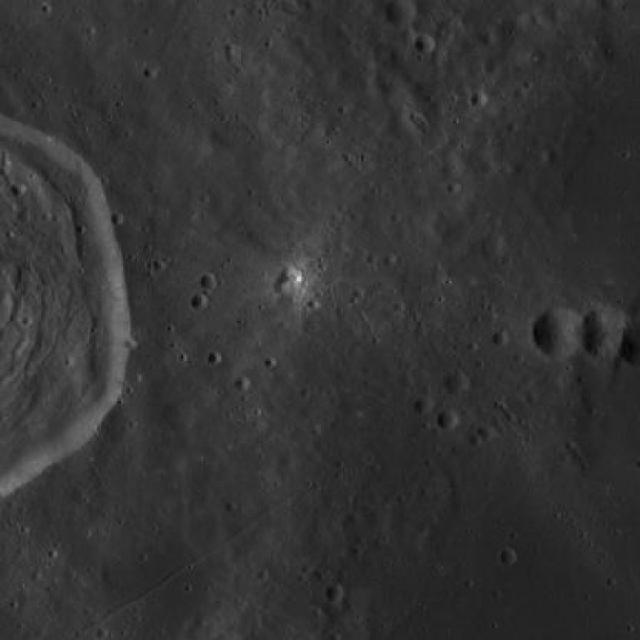crater: (533, 306, 587, 360), (578, 308, 631, 360), (160, 397, 194, 432), (386, 0, 416, 28), (480, 234, 508, 260), (444, 372, 468, 396), (534, 4, 558, 28), (440, 160, 463, 183), (436, 410, 458, 433), (278, 263, 300, 285), (394, 26, 416, 46), (327, 588, 347, 608), (414, 36, 434, 56), (272, 274, 292, 294), (413, 398, 432, 417), (470, 90, 488, 110), (276, 450, 296, 468), (480, 155, 498, 174), (468, 202, 486, 221), (234, 378, 252, 396), (492, 330, 510, 348), (498, 549, 516, 566), (612, 357, 630, 374), (194, 294, 212, 311), (597, 0, 620, 12), (478, 426, 494, 442), (518, 12, 534, 28), (202, 273, 216, 289)
